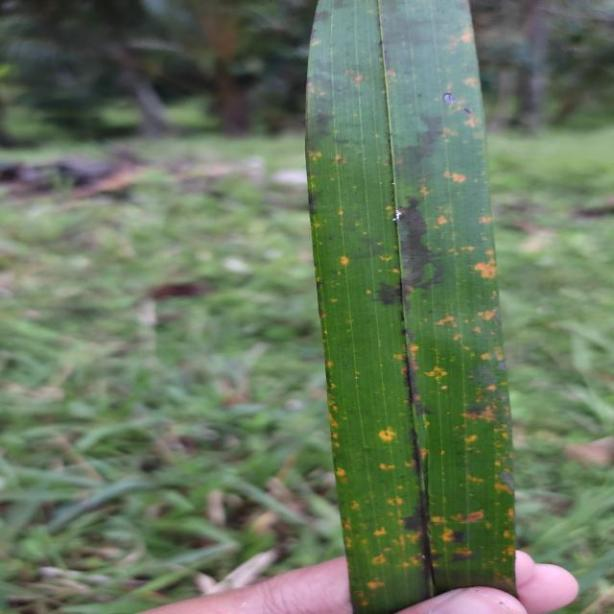Kalium: (305, 0, 515, 614)
